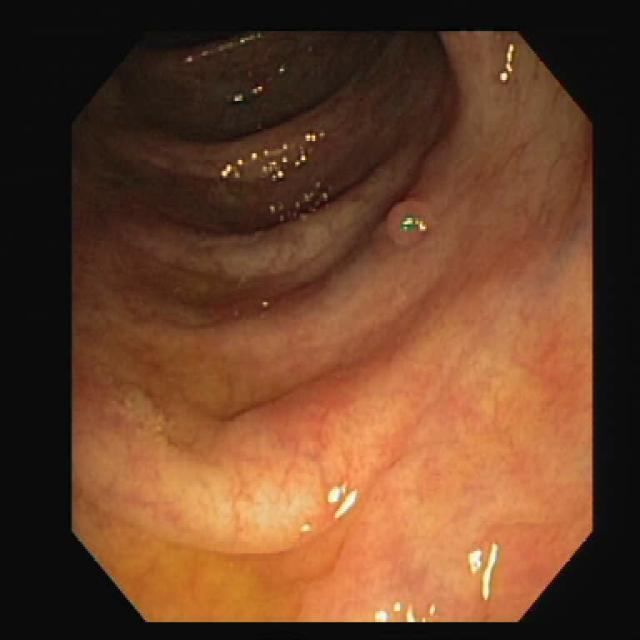tumor: (390, 198, 435, 242)
